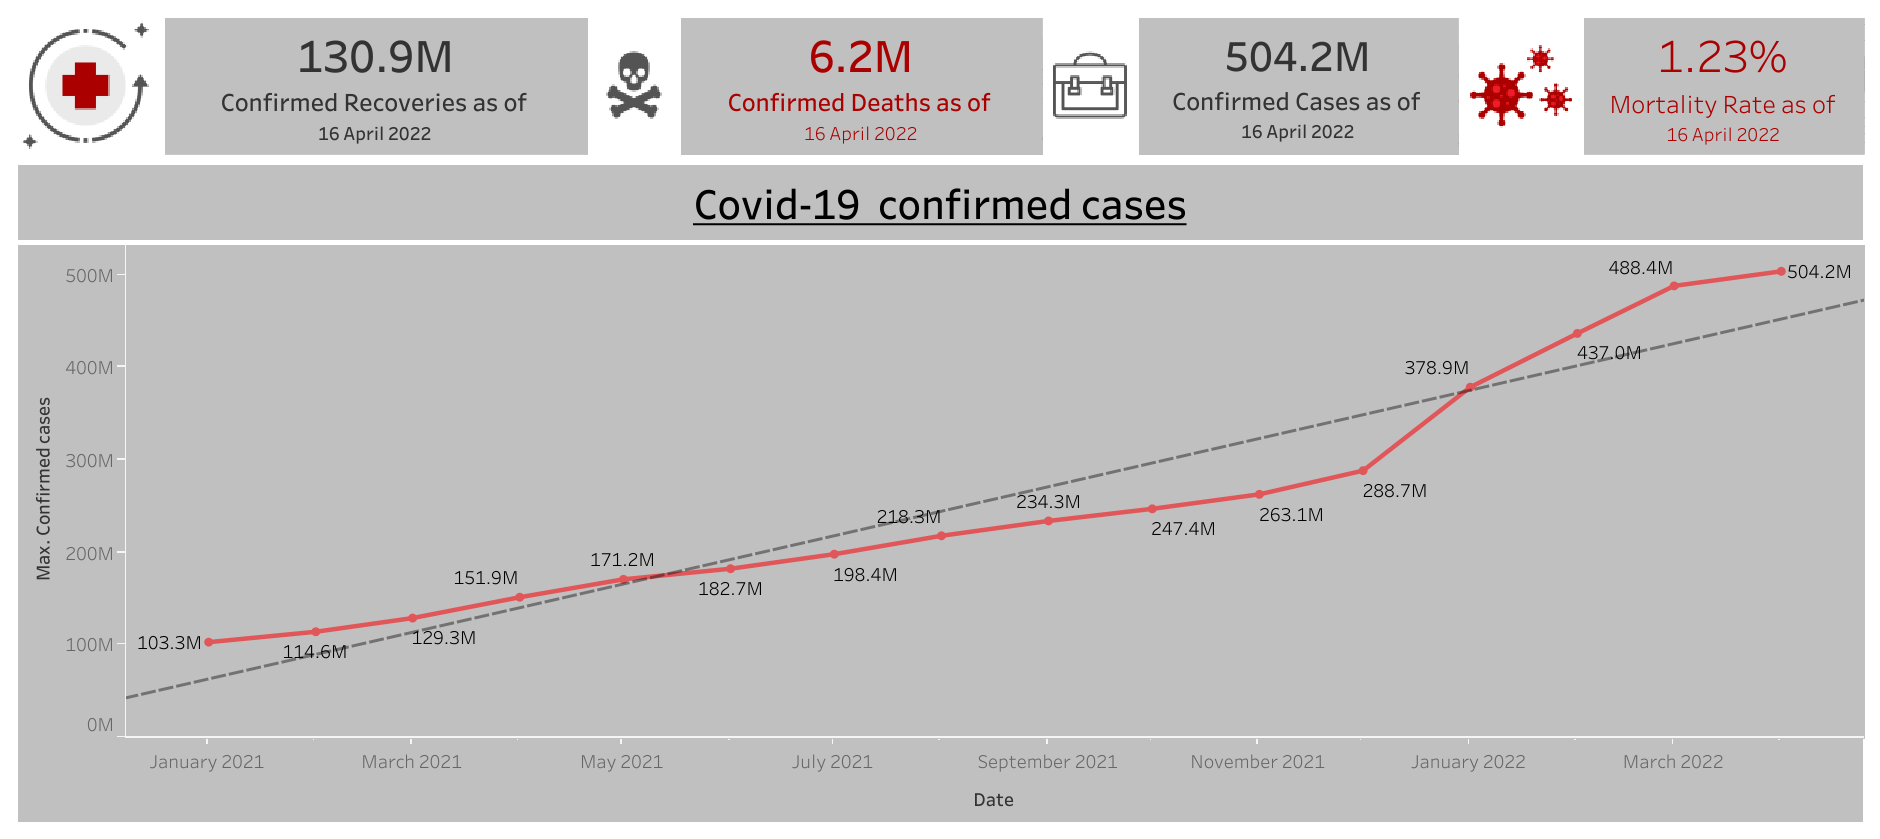

The dashboard page shown, as its layout file describes it:
{"tool":"tableau","page":{"name":"Covid -19 Automated tracker","canvas":[1000,1000],"units":"permille","ordinal":0},"visuals":[{"type":"image","param":"Image/Dashboard Icon_Recoveries.png","box":[5,9.8,78.5,177.3]},{"type":"worksheet","title":"confirmed recoveries card ","mark":"Automatic","box":[83.4,9.8,231.4,177.3]},{"type":"image","param":"Image/Dashboard Icon_Deaths.png","box":[314.8,9.8,43.7,177.3]},{"type":"worksheet","title":"confirmed deaths card ","mark":"Automatic","box":[358.5,9.8,198.2,177.3]},{"type":"image","param":"Image/Dashboard Icon_Cases.png","box":[556.7,9.8,46,177.3]},{"type":"worksheet","title":"confirmed cases card","mark":"Automatic","box":[602.7,9.8,176.6,177.3]},{"type":"image","param":"Image/Dashboard Icon_Virus.png","box":[779.3,9.8,60.5,177.3]},{"type":"worksheet","title":"mortality rate - card","mark":"Automatic","box":[839.8,9.8,155.2,177.3]},{"type":"worksheet","title":"Covid-19 confirmed cases","mark":"Automatic","rows":["Confirmed"],"cols":["Date"],"box":[5,187,990,803.2]}]}

Visuals, with their boxes on the dashboard's canvas, which has no fixed pixel size, in thousandths of its width and height (x1, y1, x2, y2). These are canvas units, not pixel positions in the 1880x839 screenshot, which may show the page scaled, cropped or inside an application window:
image: (left=5, top=10, right=84, bottom=187)
"confirmed recoveries card " worksheet: (left=83, top=10, right=315, bottom=187)
image: (left=315, top=10, right=358, bottom=187)
"confirmed deaths card " worksheet: (left=358, top=10, right=557, bottom=187)
image: (left=557, top=10, right=603, bottom=187)
"confirmed cases card" worksheet: (left=603, top=10, right=779, bottom=187)
image: (left=779, top=10, right=840, bottom=187)
"mortality rate - card" worksheet: (left=840, top=10, right=995, bottom=187)
"Covid-19 confirmed cases" worksheet: (left=5, top=187, right=995, bottom=990)
